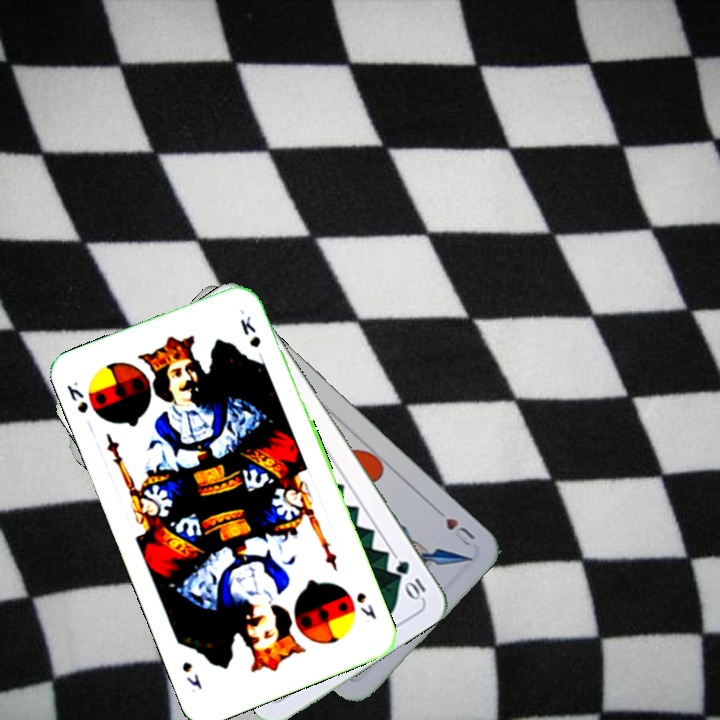G10: (391, 556, 429, 603)
HU: (429, 504, 478, 549)
SK: (62, 378, 91, 416), (352, 588, 379, 622)
